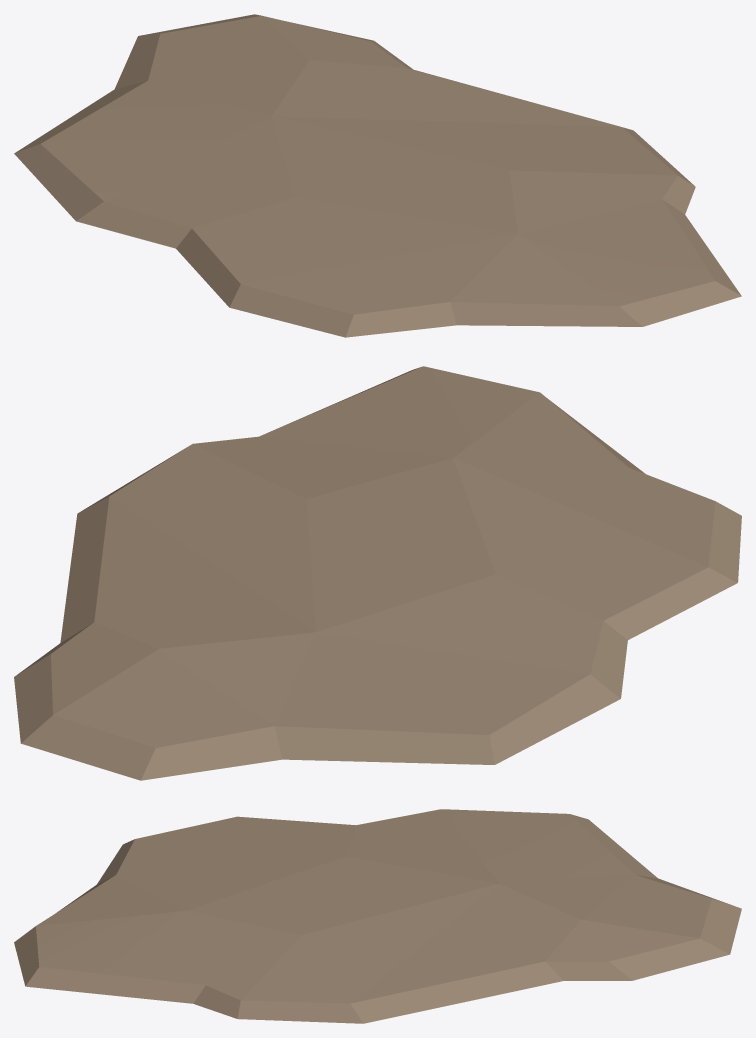
The model's file is SM_Env_DirtPatch_01.fbx.
3 renders of one model, top to bottom at view 1: azimuth 30°, elevation 25°; view 2: azimuth 150°, elevation 25°; view 3: azimuth 270°, elevation 25°, orthographic. The views are drawn at different scales.
Visible parts, largest first — view 1: SM_Env_DirtPatch_01; view 2: SM_Env_DirtPatch_01; view 3: SM_Env_DirtPatch_01.
Part boxes in pixels (box(x1,y1,x2,y2)): SM_Env_DirtPatch_01: box(14, 14, 741, 337); SM_Env_DirtPatch_01: box(14, 366, 741, 780); SM_Env_DirtPatch_01: box(14, 809, 741, 1023).
Size of the model in its own units: 169 by 7.99 by 243.
